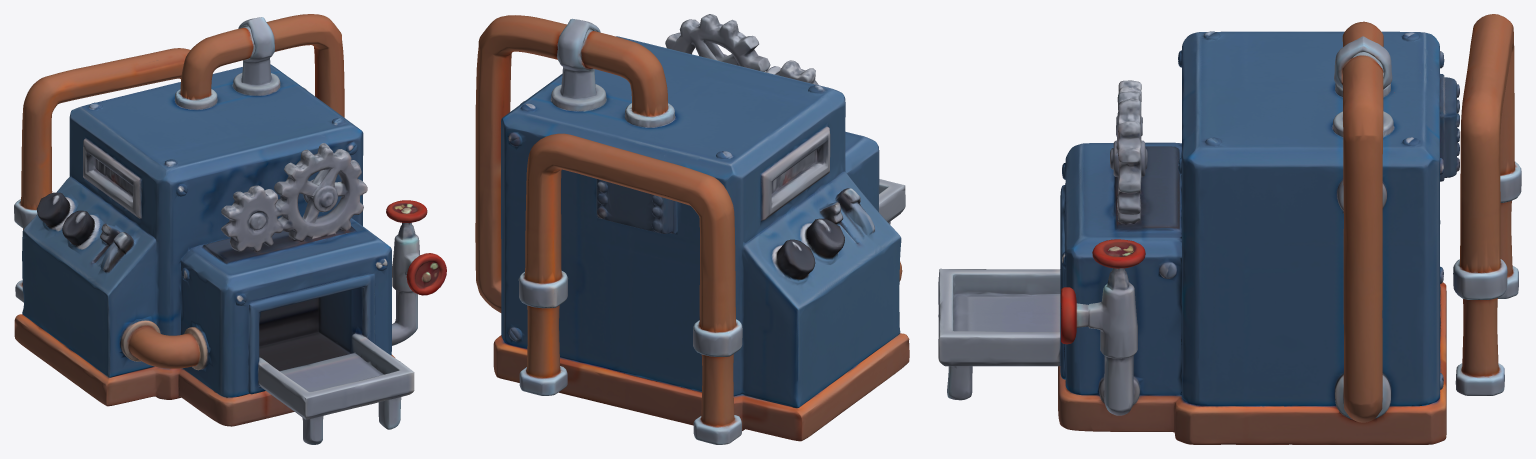
The model's file is industrial_machine_3d_model.fbx.
3 renders of one model, left to right at view 1: azimuth 30°, elevation 25°; view 2: azimuth 150°, elevation 25°; view 3: azimuth 270°, elevation 25°, orthographic. The views are drawn at different scales.
Visible parts, largest first — view 1: tripo_node_c93f29b2; view 2: tripo_node_c93f29b2; view 3: tripo_node_c93f29b2.
Boxes of the visible parts, bbox=[...] form: tripo_node_c93f29b2: bbox=[14, 14, 446, 444]; tripo_node_c93f29b2: bbox=[475, 14, 909, 444]; tripo_node_c93f29b2: bbox=[938, 14, 1521, 444].
Bounding box in the file's own units: 0.7597 × 0.7054 × 0.9798.
